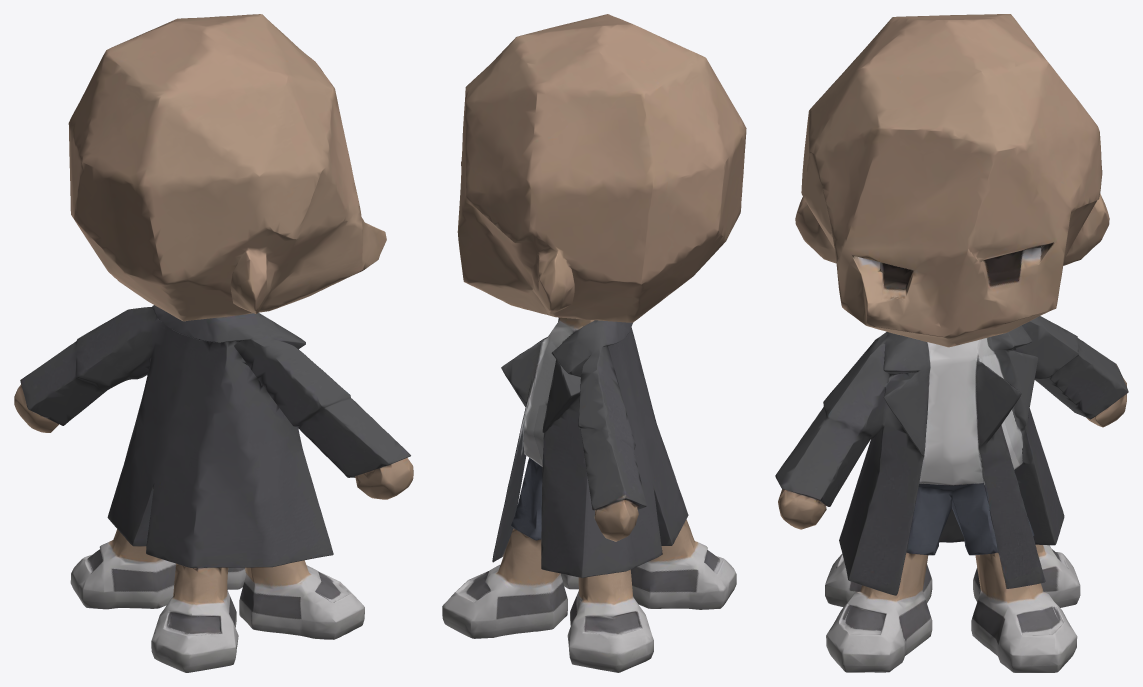
File: dressed.glb
3 renders of one model, left to right at view 1: azimuth 30°, elevation 25°; view 2: azimuth 150°, elevation 25°; view 3: azimuth 270°, elevation 25°, orthographic. The views are drawn at different scales.
Parts seen in each view (by area): view 1: tripo_node_cbd5e8b4-b5d8-493e-9b2c-42752c8aef3e; view 2: tripo_node_cbd5e8b4-b5d8-493e-9b2c-42752c8aef3e; view 3: tripo_node_cbd5e8b4-b5d8-493e-9b2c-42752c8aef3e.
Boxes of the visible parts, bbox=[...] form: tripo_node_cbd5e8b4-b5d8-493e-9b2c-42752c8aef3e: bbox=[14, 14, 413, 672]; tripo_node_cbd5e8b4-b5d8-493e-9b2c-42752c8aef3e: bbox=[442, 14, 746, 672]; tripo_node_cbd5e8b4-b5d8-493e-9b2c-42752c8aef3e: bbox=[775, 14, 1128, 672].
Size of the model in its own units: 0.4693 by 1 by 0.5328.
1 material, 1 textured.
